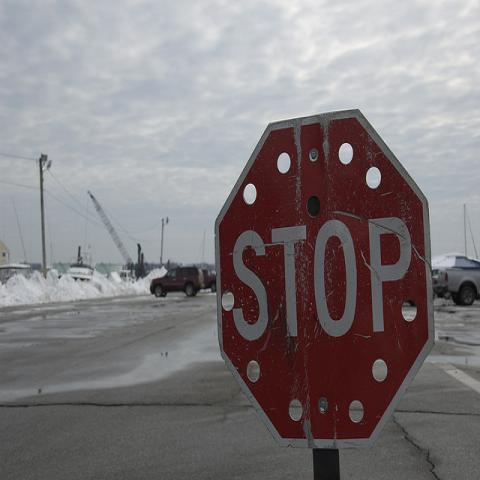car: (432, 251, 466, 299), (150, 267, 204, 297)
truck: (445, 268, 479, 306), (202, 269, 216, 292)
